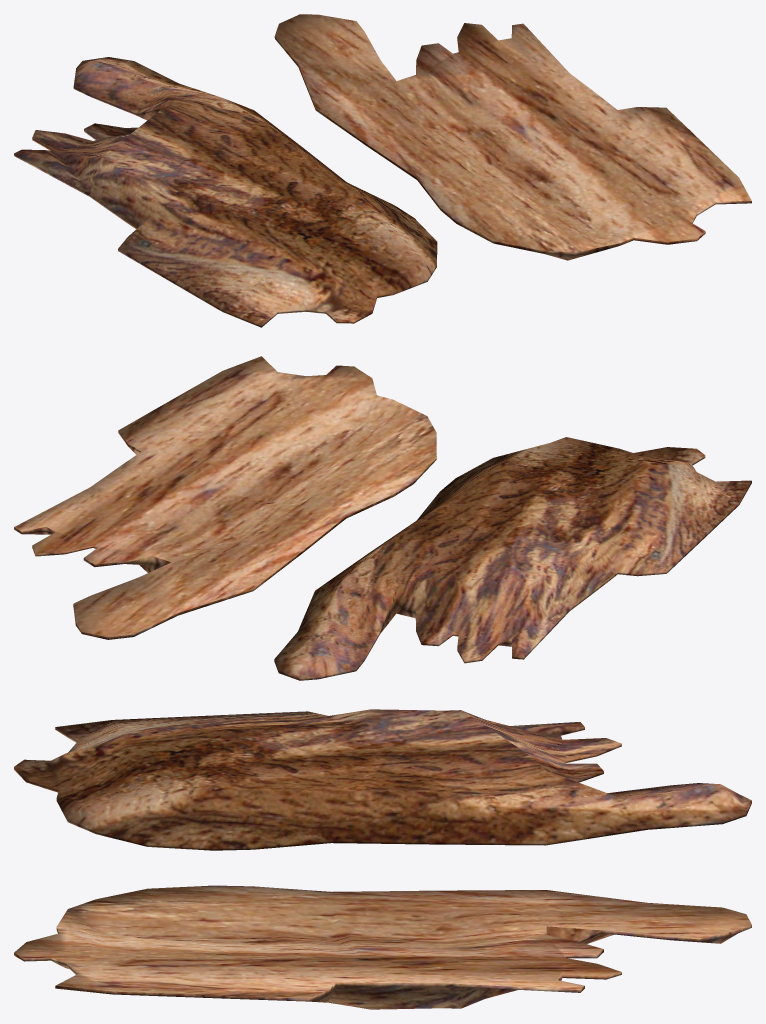
Rendered from chenxiang.FBX.
3 views of the same model, one above another, from view 1: azimuth 30°, elevation 25°; view 2: azimuth 150°, elevation 25°; view 3: azimuth 270°, elevation 25° (orthographic). The views are drawn at different scales.
Visible parts, largest first — view 1: Line002, Line001; view 2: Line002, Line001; view 3: Line001, Line002.
Boxes of the visible parts, x1,y1,x2,y2 form: Line002: (274, 14, 751, 260); Line001: (14, 57, 437, 327); Line002: (14, 356, 436, 639); Line001: (274, 437, 751, 680); Line001: (14, 709, 751, 850); Line002: (14, 885, 751, 1009).
Size of the model in its own units: 0.4503 by 0.0545 by 0.4756.
1 material, 1 textured.
